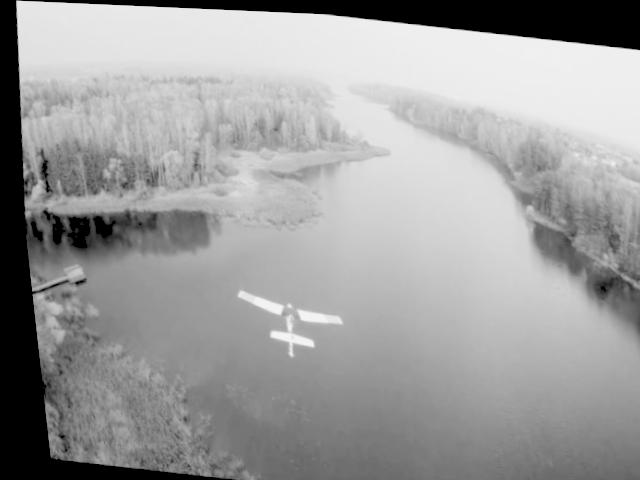hedef: (224, 279, 341, 364)
